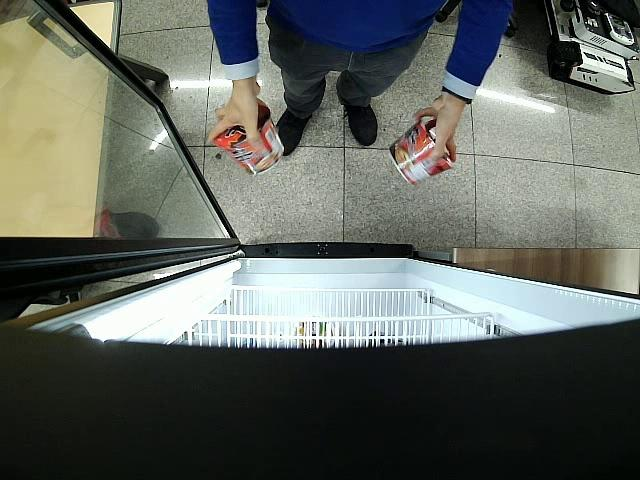00_hand: (205, 85, 266, 151), (412, 97, 457, 166)
01_shinRamen_L: (214, 99, 286, 174), (389, 121, 453, 185)
